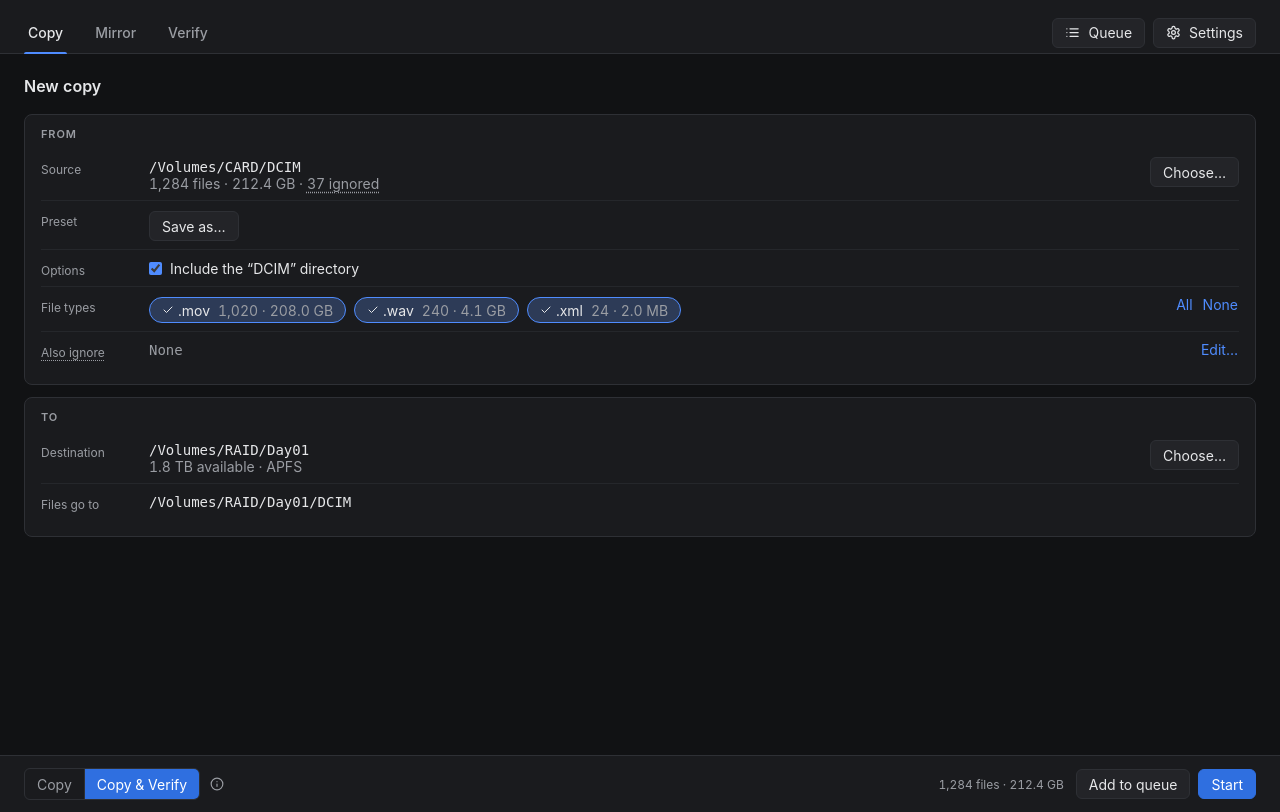
Test: App › a job that can't start goes back to setup with the reason
Click the button "Start": (1227, 784) [1198,769,1256,799]
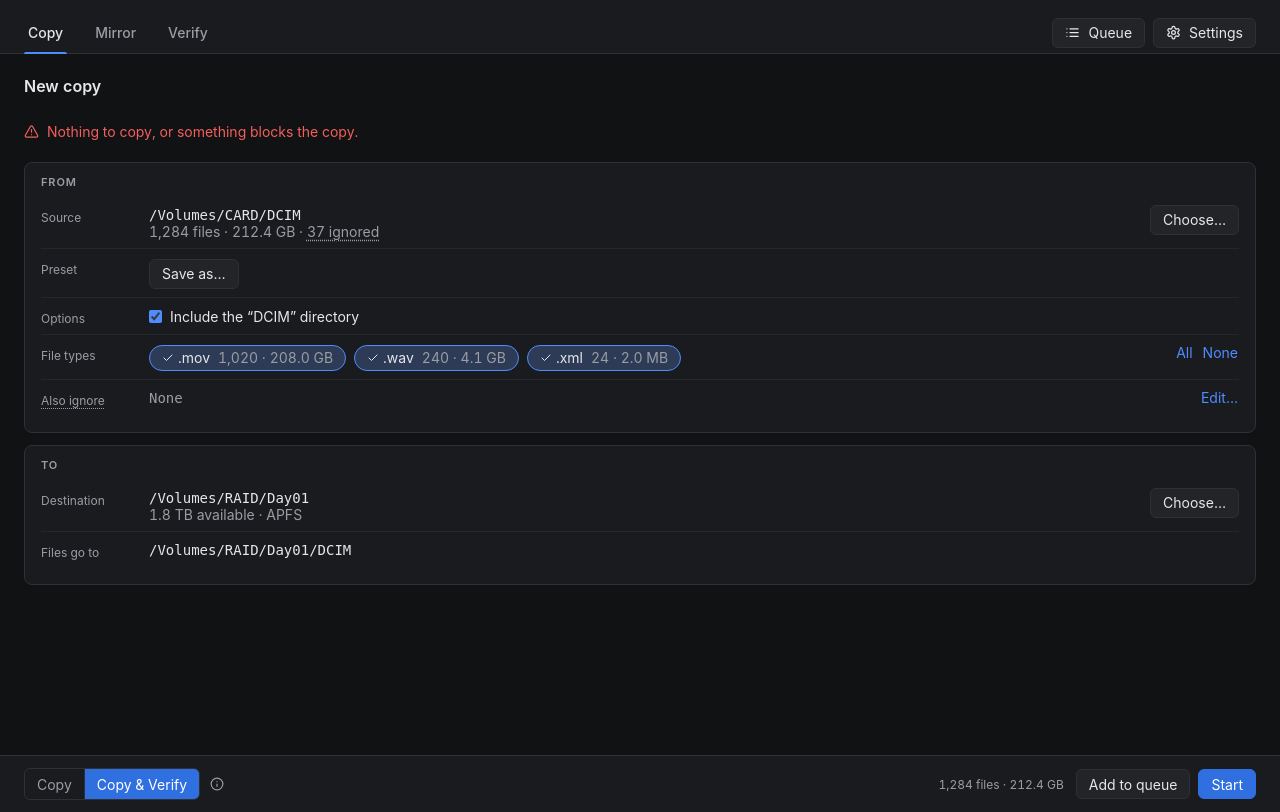
Expected: the text "Nothing to copy, or something blocks the copy." is shown, [47,122,358,142]
